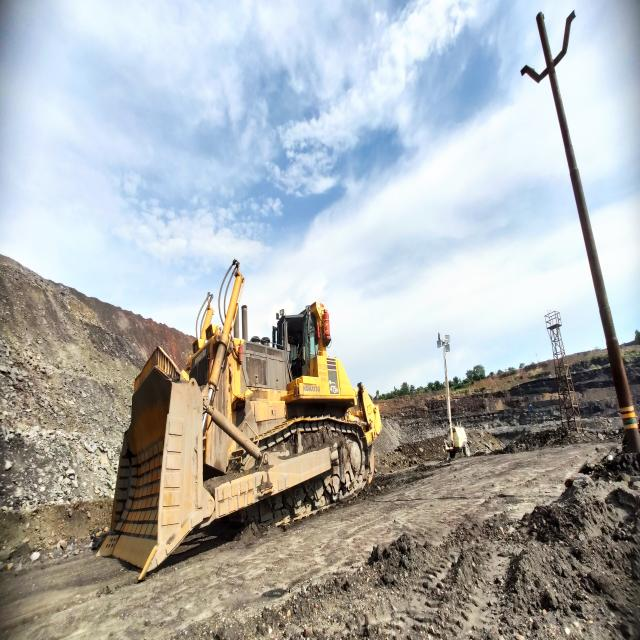buldozerpayloadergrader: (99, 262, 380, 580)
